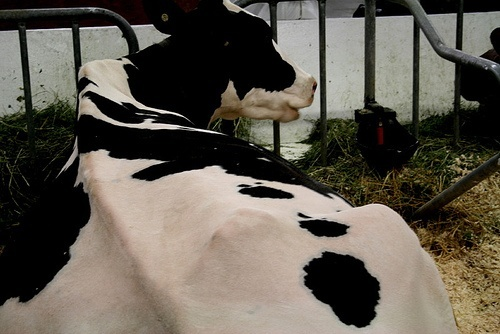cow: (2, 2, 459, 334)
